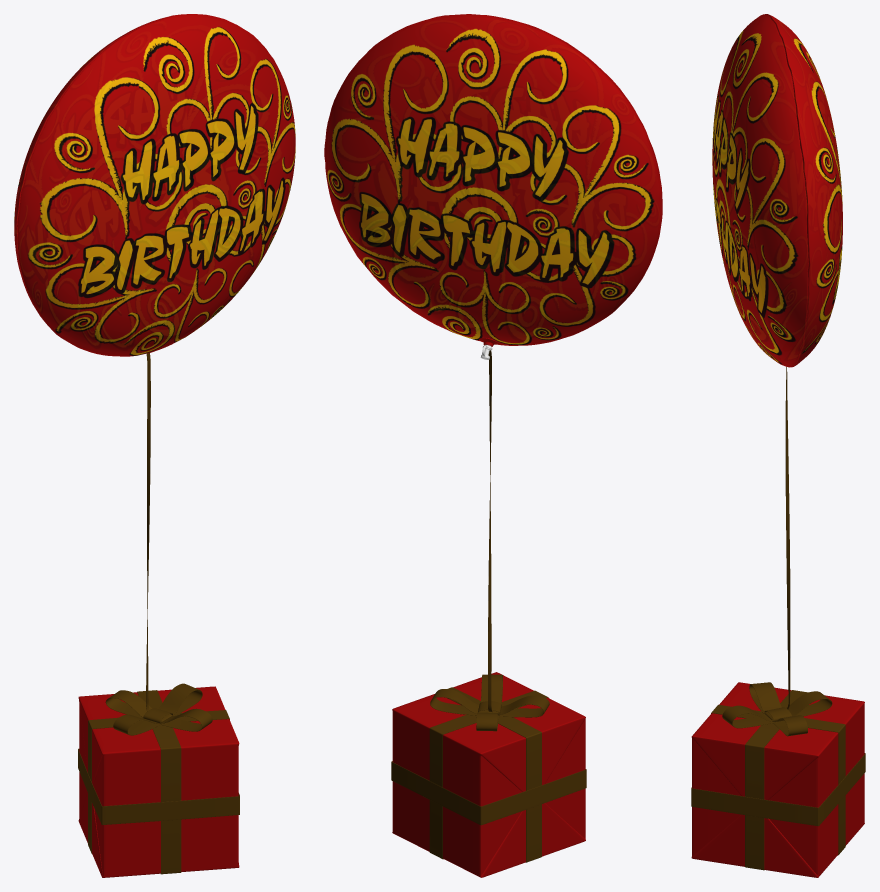
Rendered from cgaxis_models_13_08_fbx.fbx.
The picture shows the model from 3 angles, left to right: view 1: azimuth 30°, elevation 25°; view 2: azimuth 150°, elevation 25°; view 3: azimuth 270°, elevation 25°; orthographic projection.
Parts seen in each view (by area): view 1: cgaxis_models_13_08_01, cgaxis_models_13_08_02, cgaxis_models_13_08_03; view 2: cgaxis_models_13_08_01, cgaxis_models_13_08_02, cgaxis_models_13_08_03; view 3: cgaxis_models_13_08_01, cgaxis_models_13_08_02, cgaxis_models_13_08_03.
Boxes of the visible parts, x1=… form: cgaxis_models_13_08_01: x1=14, y1=14, x2=295, y2=356; cgaxis_models_13_08_02: x1=78, y1=686, x2=239, y2=877; cgaxis_models_13_08_03: x1=78, y1=353, x2=239, y2=874; cgaxis_models_13_08_01: x1=324, y1=14, x2=662, y2=346; cgaxis_models_13_08_02: x1=392, y1=672, x2=585, y2=877; cgaxis_models_13_08_03: x1=391, y1=350, x2=586, y2=862; cgaxis_models_13_08_01: x1=712, y1=14, x2=842, y2=367; cgaxis_models_13_08_02: x1=691, y1=682, x2=864, y2=877; cgaxis_models_13_08_03: x1=691, y1=367, x2=865, y2=870.
Size of the model in its own units: 13.42 by 34.38 by 6.72.
4 materials, 1 textured.
